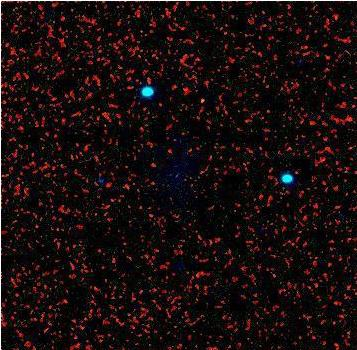star: (188, 86, 218, 116)
